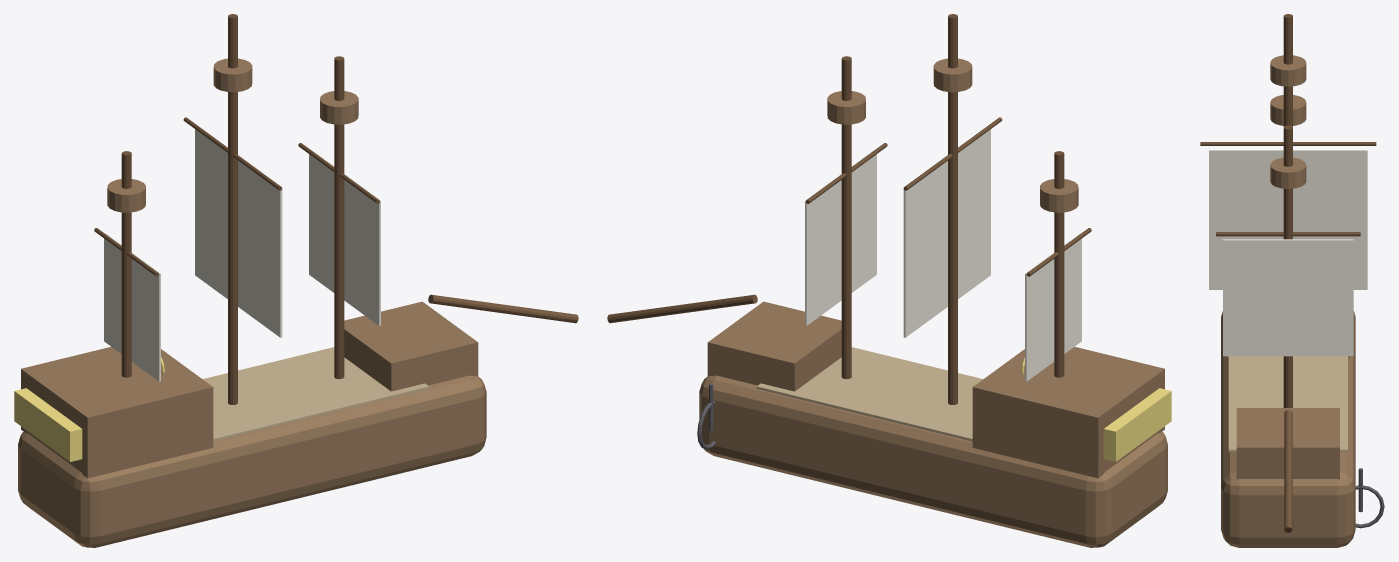
Rendered from harbor_galleon.glb.
3 renders of one model, left to right at view 1: azimuth 30°, elevation 25°; view 2: azimuth 150°, elevation 25°; view 3: azimuth 270°, elevation 25°, orthographic. The views are drawn at different scales.
Visible parts, largest first — view 1: GalleonHull, SternCastle, MainMast_Sail, MainDeck, ForeCastle, ForeMast_Sail, MizzenMast_Sail, MainMast, ForeMast, SternBalcony, MizzenMast, Bowsprit (+3 smaller); view 2: GalleonHull, SternCastle, MainMast_Sail, MainDeck, ForeCastle, ForeMast_Sail, MizzenMast_Sail, MainMast, ForeMast, SternBalcony, MizzenMast, Bowsprit (+3 smaller); view 3: ForeMast_Sail, MainMast_Sail, GalleonHull, ForeCastle, MainDeck, ForeMast, Bowsprit, MainMast_CrowsNest, ForeMast_CrowsNest, MainMast, MizzenMast_CrowsNest, ForeMast_Yard (+2 smaller).
Boxes of the visible parts, x1,y1,x2,y2 form: GalleonHull: (18, 375, 486, 547); SternCastle: (21, 346, 213, 478); MainMast_Sail: (195, 129, 282, 337); MainDeck: (202, 347, 429, 441); ForeCastle: (344, 301, 478, 391); ForeMast_Sail: (309, 149, 380, 325); MizzenMast_Sail: (104, 233, 160, 381); MainMast: (228, 14, 237, 404); ForeMast: (334, 56, 344, 379); SternBalcony: (14, 388, 82, 461); MizzenMast: (121, 151, 131, 377); Bowsprit: (428, 294, 578, 323); GalleonHull: (699, 375, 1167, 547); SternCastle: (972, 346, 1164, 478); MainMast_Sail: (903, 129, 990, 337); MainDeck: (756, 347, 983, 441); ForeCastle: (707, 301, 841, 391); ForeMast_Sail: (805, 149, 876, 325); MizzenMast_Sail: (1025, 233, 1081, 381); MainMast: (948, 14, 957, 404); ForeMast: (841, 56, 851, 379); SternBalcony: (1103, 388, 1171, 461); MizzenMast: (1054, 151, 1064, 377); Bowsprit: (607, 294, 757, 323); ForeMast_Sail: (1223, 239, 1353, 356); MainMast_Sail: (1209, 150, 1367, 289); GalleonHull: (1221, 311, 1355, 547); ForeCastle: (1236, 408, 1339, 479); MainDeck: (1228, 356, 1347, 451); ForeMast: (1283, 125, 1292, 407); Bowsprit: (1284, 410, 1292, 532); MainMast_CrowsNest: (1270, 55, 1306, 86); ForeMast_CrowsNest: (1270, 157, 1306, 188); MainMast: (1283, 14, 1292, 126); MizzenMast_CrowsNest: (1270, 95, 1306, 125); ForeMast_Yard: (1216, 232, 1360, 236).
Bounding box in the file's own units: 11.08 × 9.3 × 3.56.
